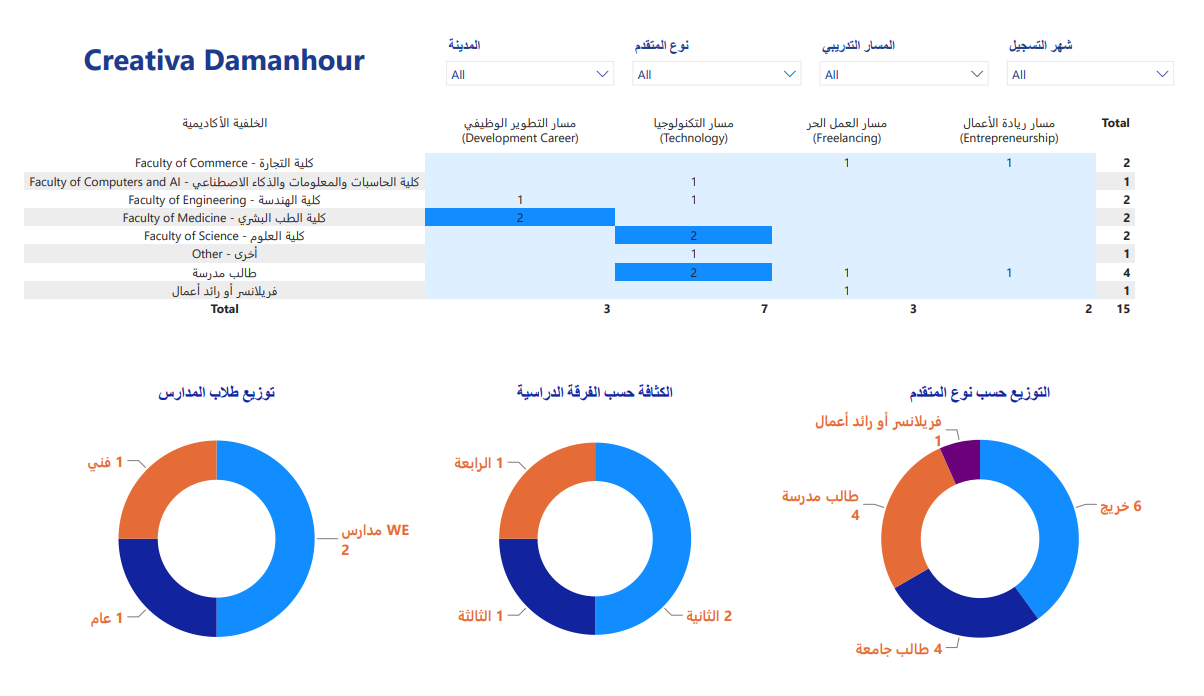

Layout of this report page (visuals, bound fields, positions):
{"tool":"powerbi","page":{"name":"Trainee structure and specializations","canvas":[1280,720],"ordinal":2},"visuals":[{"type":"slicer","fields":{"Values":["DimDate.Month Name"]},"box":[1075.7,12.9,204.3,81.4],"z":0},{"type":"slicer","fields":{"Values":["public dim_courses.track_name"]},"box":[870,12.9,205.7,81.4],"z":1000},{"type":"textbox","box":[0,12.9,458.6,57.1],"z":2000},{"type":"slicer","fields":{"Values":["public dim_trainees.applicant_type"]},"box":[664.3,12.9,205.7,81.4],"z":3000},{"type":"slicer","fields":{"Values":["public dim_geography.city_center"]},"box":[458.6,12.9,205.7,81.4],"z":4000},{"type":"pivotTable","fields":{"Columns":["public dim_courses.track_name"],"Values":["_Measures.Total Applications"],"Rows":["public dim_trainees.الخلفية الأكاديمية"]},"box":[0,95,1280,283.3],"z":5000},{"type":"donutChart","title":"التوزيع حسب نوع المتقدم","fields":{"Category":["public dim_trainees.applicant_type"],"Y":["_Measures.Total Applications"]},"box":[833.3,396.7,446.7,323.3],"z":6000},{"type":"donutChart","title":"الكثافة حسب الفرقة الدراسية","fields":{"Y":["_Measures.Total Applications"],"Category":["public dim_trainees.academic_year"]},"box":[433.3,396.7,400,323.3],"z":7000},{"type":"donutChart","title":"توزيع طلاب المدارس","fields":{"Y":["_Measures.Total Applications"],"Category":["public dim_trainees.school_type"]},"box":[0,396.7,433.3,323.3],"z":8000}]}

Visuals, with their boxes in screenshot pixels (x1, y1, x2, y2), scaled from the page's 1280x720 canvas onto the 1204x696 screenshot:
slicer - DimDate.Month Name: [left=1012, top=12, right=1203, bottom=91]
slicer - public dim_courses.track_name: [left=818, top=12, right=1012, bottom=91]
textbox: [left=0, top=12, right=431, bottom=68]
slicer - public dim_trainees.applicant_type: [left=625, top=12, right=818, bottom=91]
slicer - public dim_geography.city_center: [left=431, top=12, right=625, bottom=91]
pivotTable - public dim_courses.track_name x _Measures.Total Applications: [left=0, top=92, right=1203, bottom=366]
"التوزيع حسب نوع المتقدم" donutChart: [left=784, top=383, right=1203, bottom=695]
"الكثافة حسب الفرقة الدراسية" donutChart: [left=408, top=383, right=784, bottom=695]
"توزيع طلاب المدارس" donutChart: [left=0, top=383, right=408, bottom=695]
